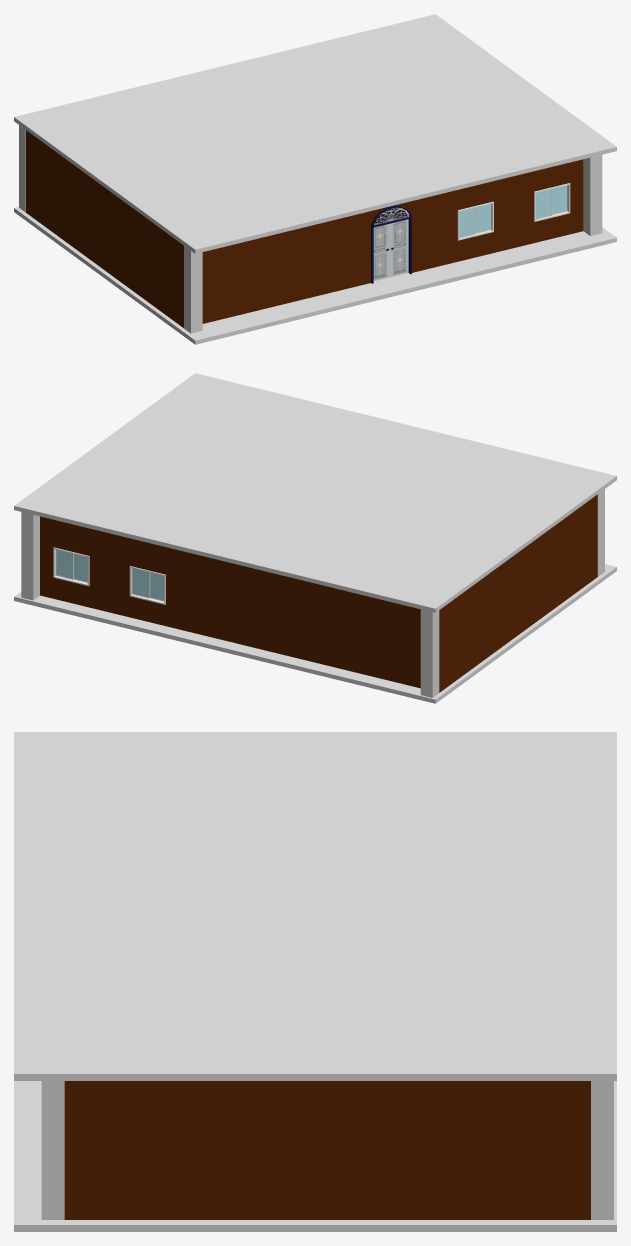
The model's file is Library_update_Final_4.glb.
3 renders of one model, top to bottom at view 1: azimuth 30°, elevation 25°; view 2: azimuth 150°, elevation 25°; view 3: azimuth 270°, elevation 25°, orthographic. The views are drawn at different scales.
Visible parts, largest first — view 1: Floor1, polySurface13543, wall_left, Floor, piller4, piller3, LIB_Door_Right, LIB_Door_structure, LIB_Door_Left, piller2, polySurface13537; view 2: Floor1, wall_back, wall_left, Floor, piller2, piller1, piller3; view 3: Floor1, wall_right, Floor, piller4, piller1.
Part boxes in pixels (<box>): Floor1: <box>14,14,616,253</box>; polySurface13543: <box>202,159,583,323</box>; wall_left: <box>26,130,183,327</box>; Floor: <box>14,206,616,344</box>; piller4: <box>583,155,602,235</box>; piller3: <box>184,246,202,333</box>; LIB_Door_Right: <box>390,219,408,277</box>; LIB_Door_structure: <box>371,205,411,283</box>; LIB_Door_Left: <box>373,223,389,281</box>; piller2: <box>19,125,25,212</box>; polySurface13537: <box>459,208,475,237</box>; Floor1: <box>14,373,616,612</box>; wall_back: <box>40,516,420,688</box>; wall_left: <box>439,494,597,692</box>; Floor: <box>14,564,616,703</box>; piller2: <box>420,609,439,697</box>; piller1: <box>21,512,39,600</box>; piller3: <box>597,489,604,576</box>; Floor1: <box>14,732,616,1080</box>; wall_right: <box>64,1081,590,1219</box>; Floor: <box>14,1081,616,1231</box>; piller4: <box>41,1081,64,1219</box>; piller1: <box>591,1081,613,1219</box>.
Size of the model in its own units: 17.69 by 3.81 by 13.18.
Materials: 16 (3 with a texture image).
